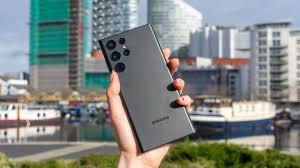Smartphone: (102, 34, 193, 146)
